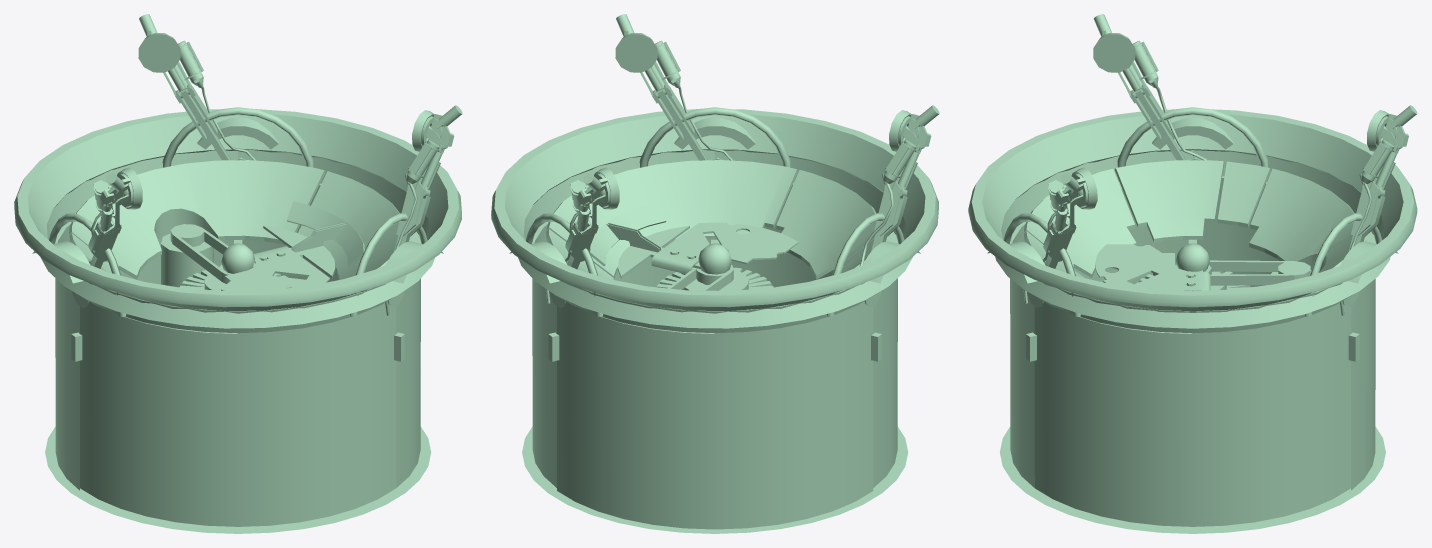
File: ExcursionFunnel.fbx
The picture shows the model from 3 angles, left to right: view 1: azimuth 30°, elevation 25°; view 2: azimuth 150°, elevation 25°; view 3: azimuth 270°, elevation 25°; orthographic projection.
Visible parts, largest first — view 1: Base, Arms, spinner; view 2: Base, Arms, spinner; view 3: Base, Arms, spinner.
Boxes of the visible parts, x1=… form: Base: x1=14, y1=108, x2=461, y2=533; Arms: x1=32, y1=14, x2=462, y2=317; spinner: x1=221, y1=201, x2=364, y2=290; Base: x1=491, y1=108, x2=938, y2=533; Arms: x1=509, y1=14, x2=939, y2=317; spinner: x1=588, y1=202, x2=798, y2=278; Base: x1=968, y1=109, x2=1417, y2=533; Arms: x1=987, y1=14, x2=1417, y2=317; spinner: x1=1095, y1=243, x2=1210, y2=291.
Bounding box in the file's own units: 167 × 146 × 167.
